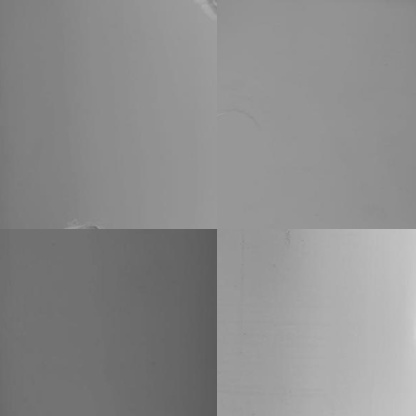sunshang: (65, 216, 104, 234), (197, 1, 219, 16)
